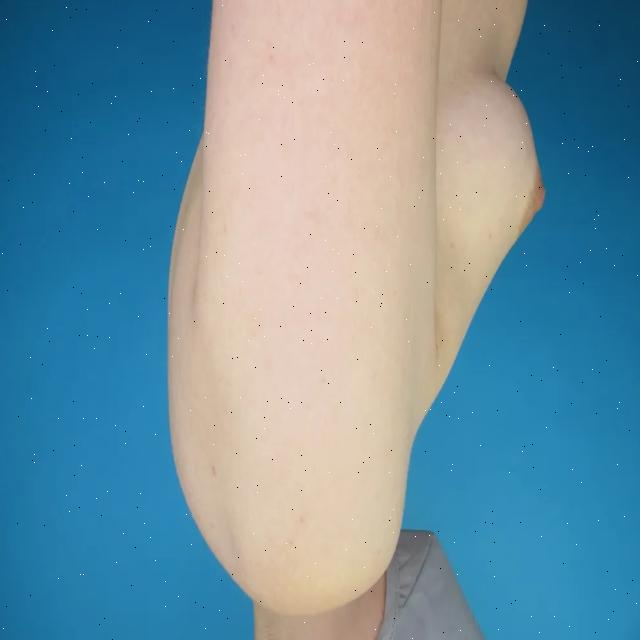Seno ileso: (436, 48, 554, 400)
